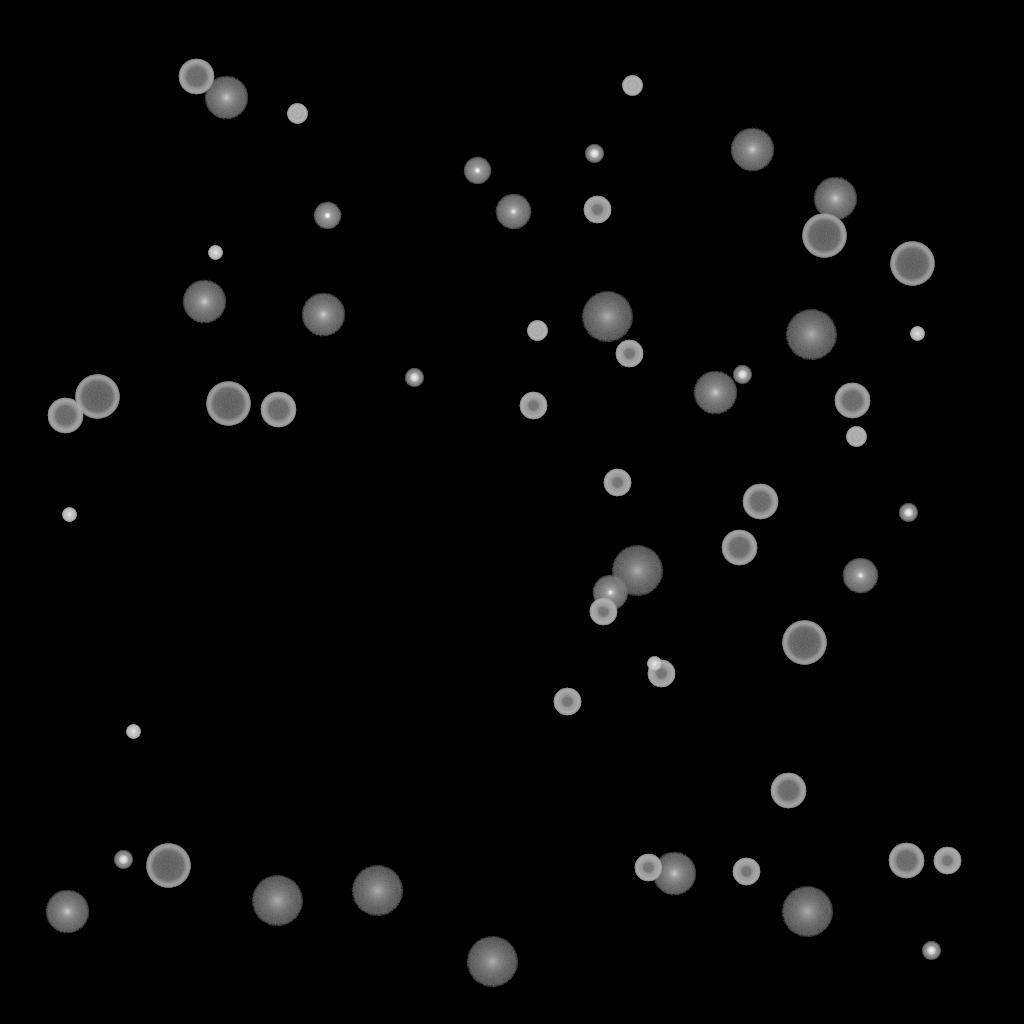depth:-10: (463, 157, 491, 185), (313, 202, 341, 230)
depth:-20: (899, 504, 917, 522), (405, 369, 423, 387), (922, 942, 940, 960), (733, 366, 751, 384), (585, 145, 603, 163), (114, 851, 132, 869)
depth:-30: (910, 327, 924, 341), (126, 725, 140, 739), (647, 657, 661, 671), (208, 246, 222, 260), (62, 508, 76, 522)
depth:-40: (622, 76, 642, 96), (527, 321, 547, 341), (287, 104, 307, 124), (846, 427, 866, 447)
depth:-50: (589, 598, 617, 626), (732, 858, 760, 886), (603, 469, 631, 497), (553, 688, 581, 716), (634, 854, 662, 882), (933, 847, 961, 875), (615, 340, 643, 368), (583, 196, 611, 224), (647, 660, 675, 688), (519, 392, 547, 420)
depth:-60: (834, 383, 870, 419), (260, 392, 296, 428), (742, 484, 778, 520), (47, 398, 83, 434), (770, 773, 806, 809), (888, 843, 924, 879), (721, 530, 757, 566), (178, 59, 214, 95)
depth:-70: (802, 214, 846, 258), (890, 242, 934, 286), (782, 621, 826, 665), (75, 375, 119, 419), (146, 844, 190, 888), (206, 382, 250, 426)
depth:0: (842, 558, 878, 594), (495, 194, 531, 230), (592, 575, 628, 611)
depth:10: (301, 293, 345, 337), (693, 371, 737, 415), (730, 128, 774, 172), (813, 177, 857, 221), (182, 280, 226, 324), (45, 890, 89, 934), (204, 76, 248, 120), (652, 852, 696, 896)
depth:20: (466, 937, 518, 987), (351, 866, 403, 916), (611, 546, 663, 596), (785, 310, 837, 360), (781, 887, 833, 937), (581, 292, 633, 342), (251, 876, 303, 926)
